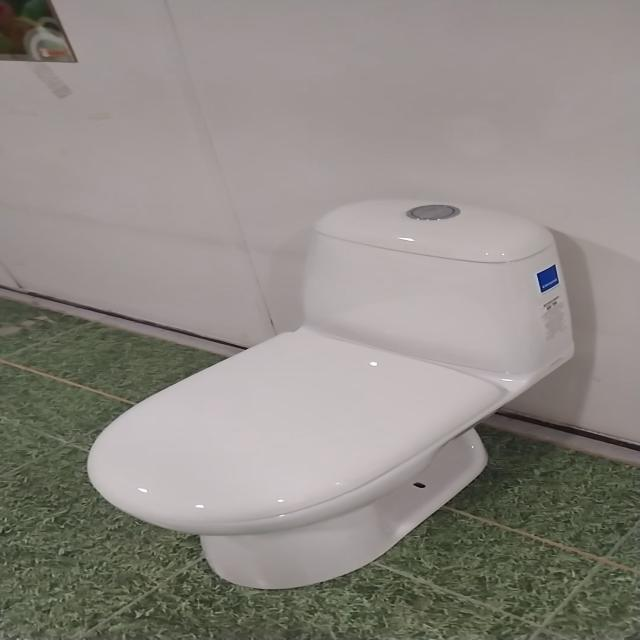toilet: (85, 197, 576, 590)
